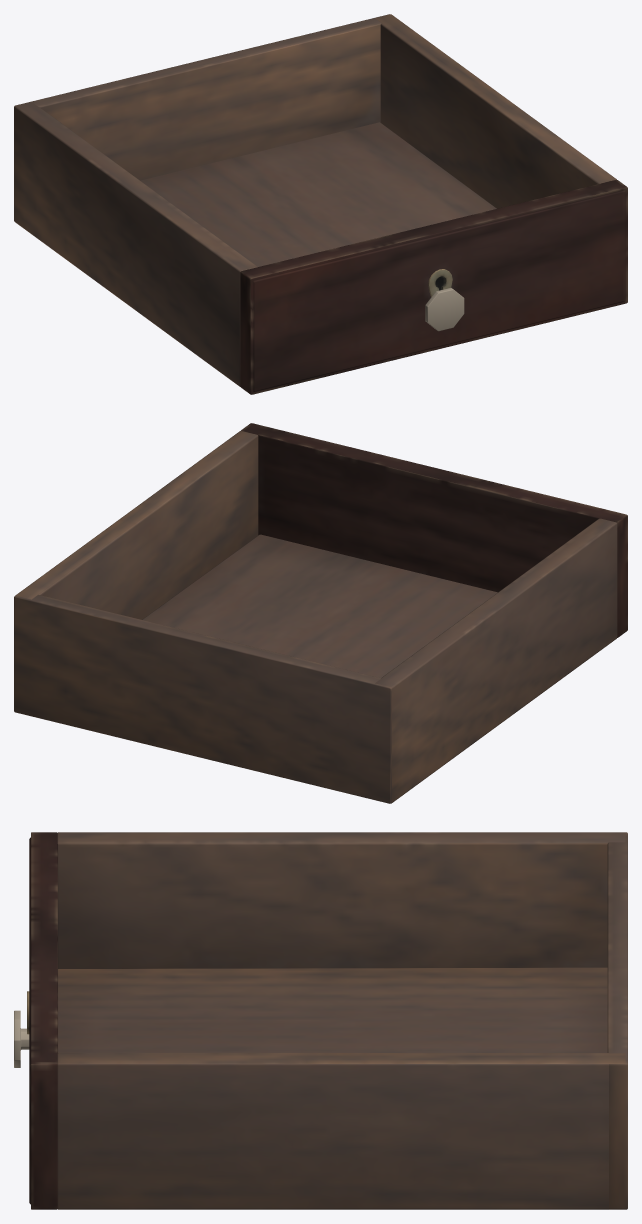
The model's file is SM_Cabinet243_drawer.fbx.
The picture shows the model from 3 angles, top to bottom: view 1: azimuth 30°, elevation 25°; view 2: azimuth 150°, elevation 25°; view 3: azimuth 270°, elevation 25°; orthographic projection. The views are drawn at different scales.
Parts seen in each view (by area): view 1: SM_Cabinet243_drawer; view 2: SM_Cabinet243_drawer; view 3: SM_Cabinet243_drawer.
Part boxes in pixels (x1,y1,x2,y2): SM_Cabinet243_drawer: (14,14,627,394); SM_Cabinet243_drawer: (14,423,627,803); SM_Cabinet243_drawer: (14,832,627,1209).
Bounding box in the file's own units: 27.91 × 8.22 × 31.2.
